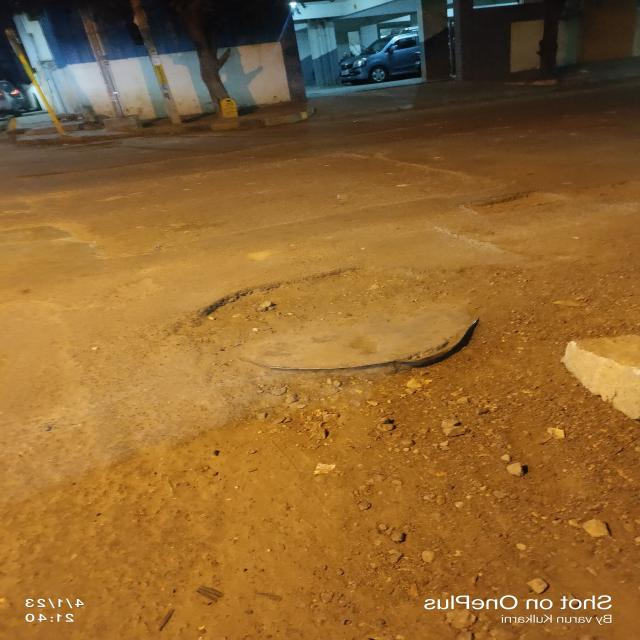manhole: (180, 262, 520, 406)
